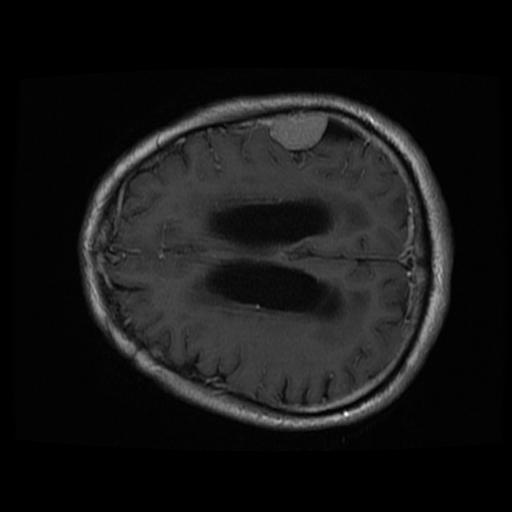meningioma: (264, 111, 325, 148)
